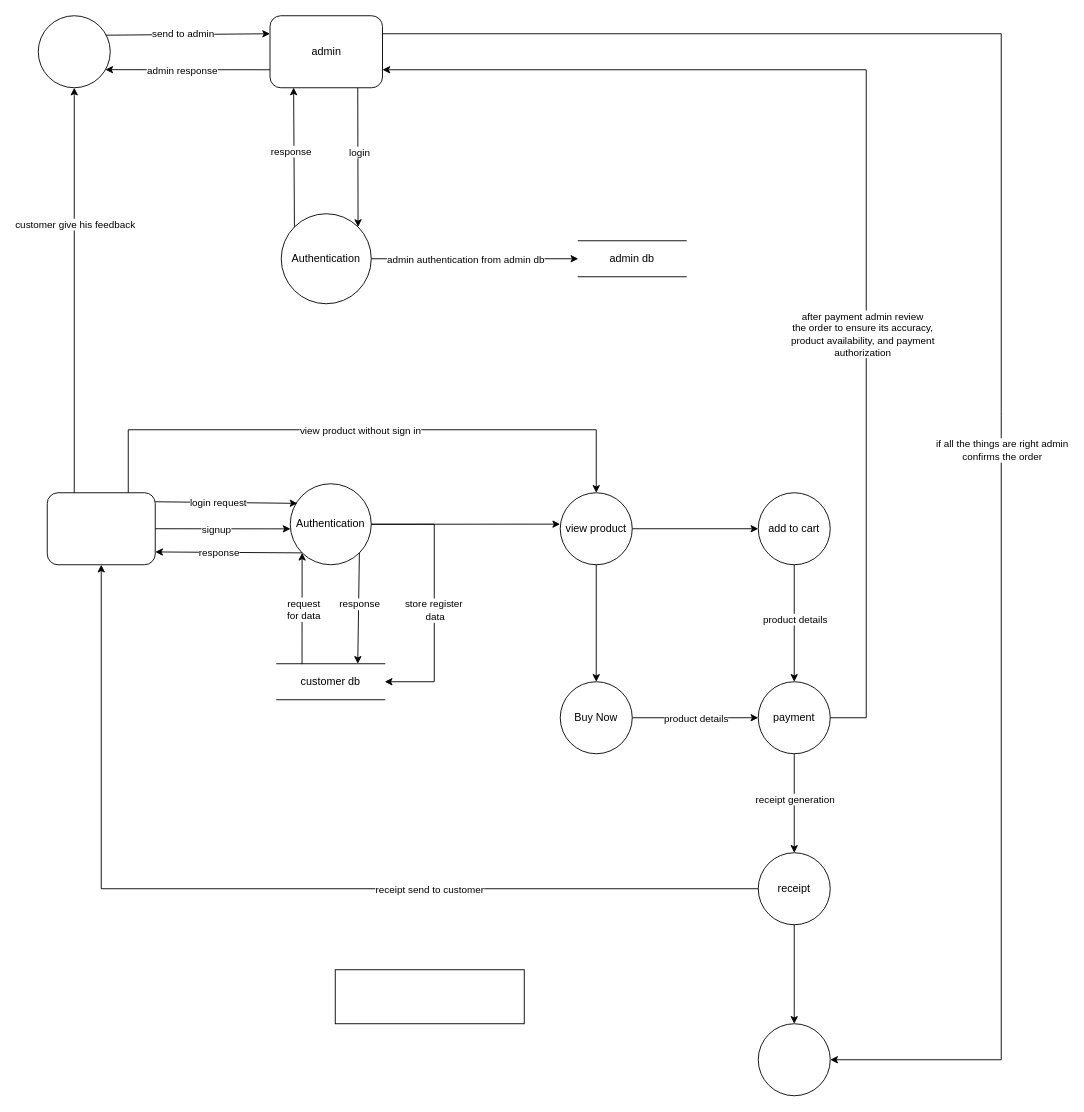
Some shapes in this 1084 by 1112 pixel diagram are drawn without their labels. Each missing label, with the centre of its shape:
"1-level data flow diagram" belongs at point 429,996.
"customer" belongs at point 100,528.
"feedback" belongs at point 73,51.
"placed order successfully" belongs at point 793,1059.
